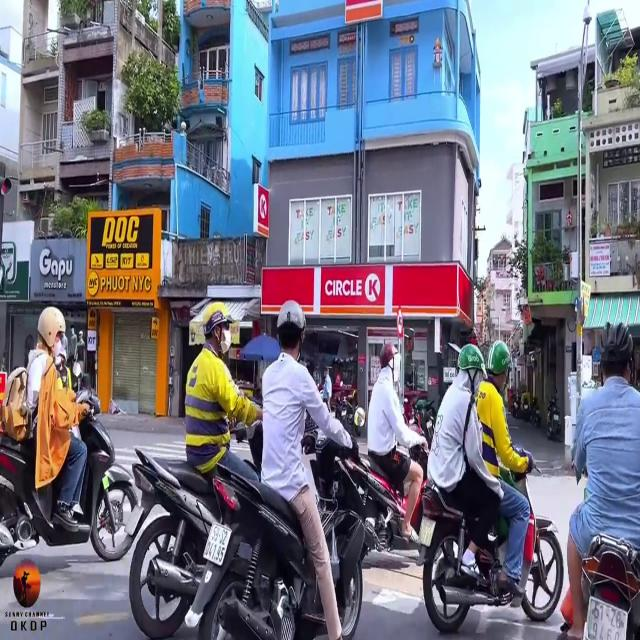bien_trang: (583, 591, 633, 640), (199, 524, 235, 571)
